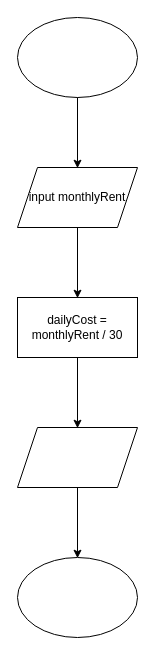
Image size: 155x655. Some labels were removed from this diagram. The shapes that lost their labels are listed below. From the top down, each one's box as (x1, y1, x2, y2) in pixels, then its label:
(16, 16, 138, 98): Start
(16, 426, 138, 488): output dailyCost
